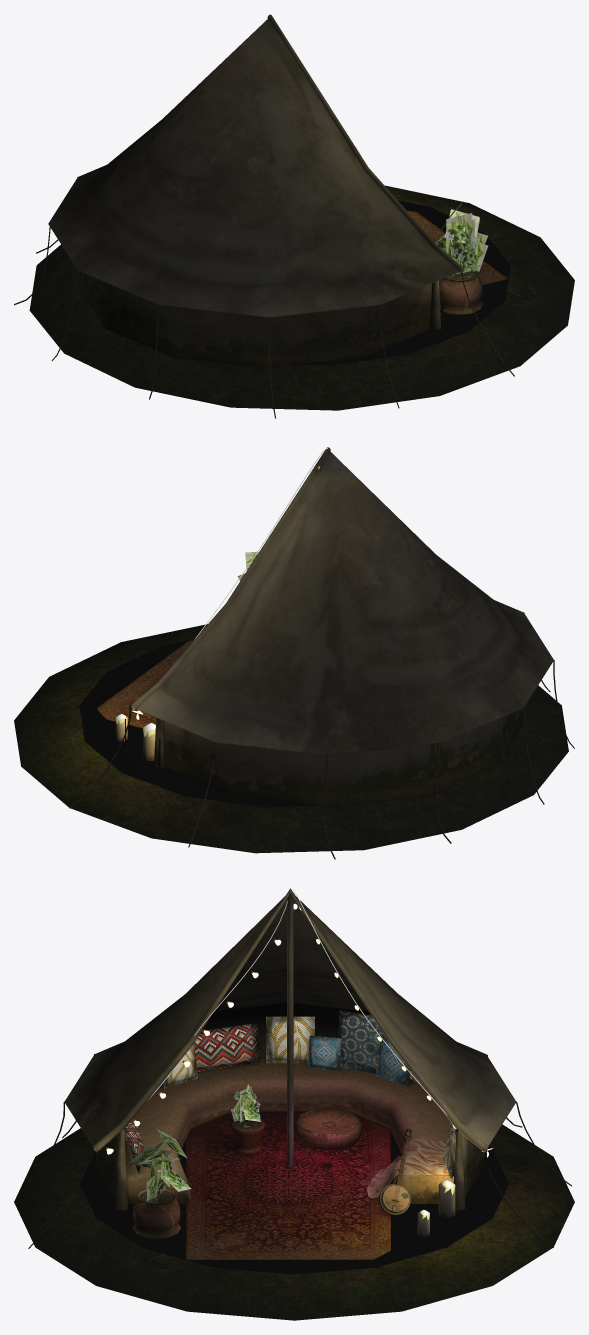
The model's file is echo_house.glb.
3 renders of one model, top to bottom at view 1: azimuth 30°, elevation 25°; view 2: azimuth 150°, elevation 25°; view 3: azimuth 270°, elevation 25°, orthographic.
Visible parts, largest first — view 1: tent.001, Sphere.001, Plane.010, plantpot, ROPES, carpet; view 2: tent.001, Sphere.001, carpet, ROPES; view 3: tent.001, Sphere.001, carpet, pillow1.009, pouf, blanket, plantpot, pole, Plane.010, Cylinder.005, Plane.001, ROPES (+4 smaller).
Boxes of the visible parts, x1,y1,x2,y2 form: tent.001: [48, 14, 463, 368]; Sphere.001: [29, 185, 574, 410]; Plane.010: [435, 201, 488, 276]; plantpot: [439, 271, 483, 314]; ROPES: [14, 177, 514, 418]; carpet: [407, 210, 507, 284]; tent.001: [131, 447, 553, 807]; Sphere.001: [14, 624, 568, 853]; carpet: [96, 640, 192, 728]; ROPES: [69, 612, 574, 859]; tent.001: [64, 888, 516, 1210]; Sphere.001: [14, 1124, 574, 1320]; carpet: [186, 1111, 390, 1259]; pillow1.009: [124, 1010, 456, 1178]; pouf: [293, 1107, 362, 1150]; blanket: [366, 1139, 454, 1198]; plantpot: [133, 1188, 180, 1238]; pole: [287, 894, 293, 1167]; Plane.010: [129, 1128, 191, 1202]; Cylinder.005: [379, 1128, 411, 1215]; Plane.001: [230, 1120, 265, 1153]; ROPES: [28, 1054, 571, 1248].
Size of the model in its own units: 7.5 by 4.36 by 7.32.
Materials: 9 (8 with a texture image).
